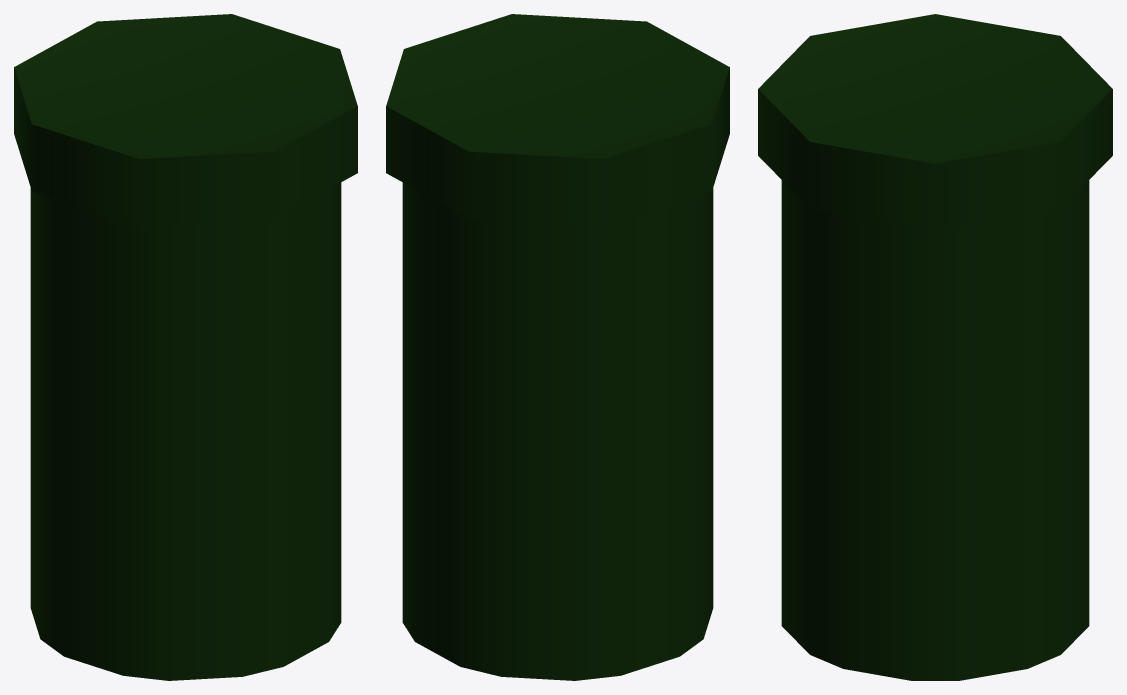
The model's file is round-tower-base-2.fbx.
The picture shows the model from 3 angles, left to right: view 1: azimuth 30°, elevation 25°; view 2: azimuth 150°, elevation 25°; view 3: azimuth 270°, elevation 25°; orthographic projection.
Parts seen in each view (by area): view 1: round-tower-base-2; view 2: round-tower-base-2; view 3: round-tower-base-2.
Boxes of the visible parts, box(x1,y1,x2,y2) form: round-tower-base-2: box(14, 14, 357, 680); round-tower-base-2: box(386, 14, 729, 680); round-tower-base-2: box(758, 14, 1112, 680).
Size of the model in its own units: 4.28 by 7.02 by 4.28.
